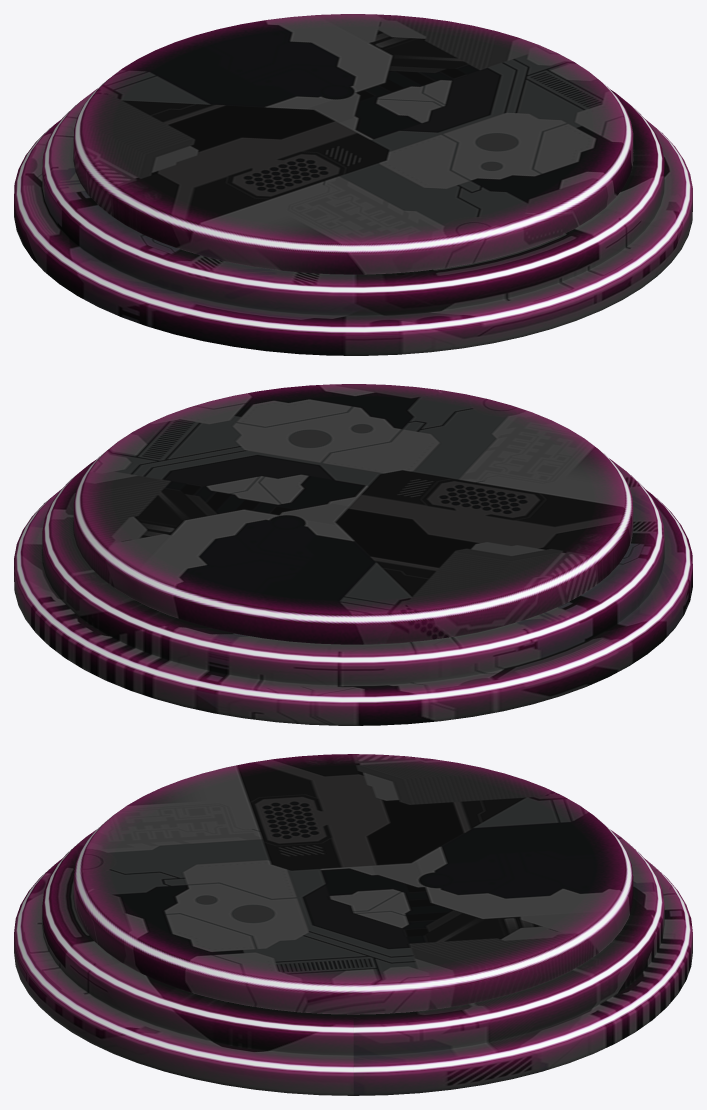
3 renders of one model, top to bottom at view 1: azimuth 30°, elevation 25°; view 2: azimuth 150°, elevation 25°; view 3: azimuth 270°, elevation 25°, orthographic.
Visible parts, largest first — view 1: StandPink; view 2: StandPink; view 3: StandPink.
Part boxes in pixels (x1,y1,x2,y2): StandPink: [14, 14, 692, 355]; StandPink: [14, 384, 692, 725]; StandPink: [14, 754, 692, 1095].
Bounding box in the file's own units: 0.4379 × 0.06 × 0.4379.
1 material, 1 textured.
